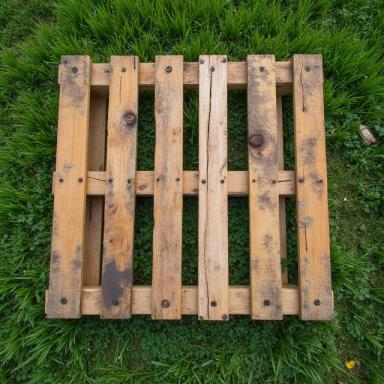pallet: (45, 54, 333, 321)
